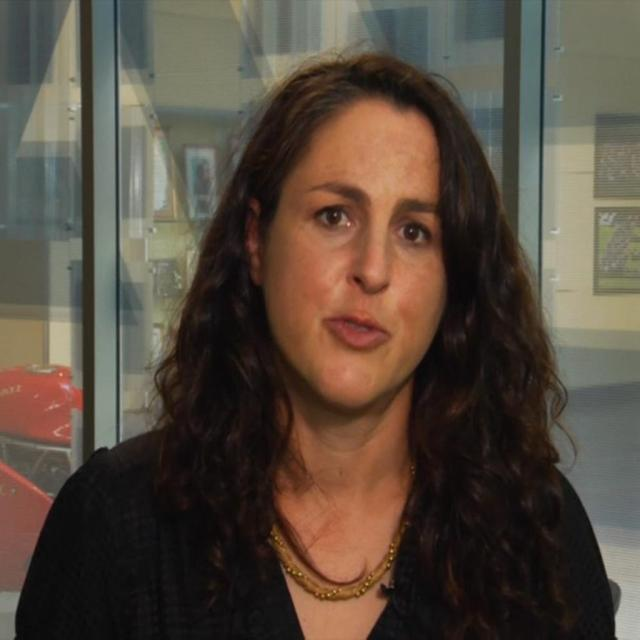Face: (284, 103, 450, 401)
